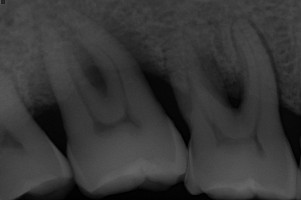Dental Caries: (27, 0, 162, 113)
Endo-Periodontal Lesion: (198, 55, 245, 108)
